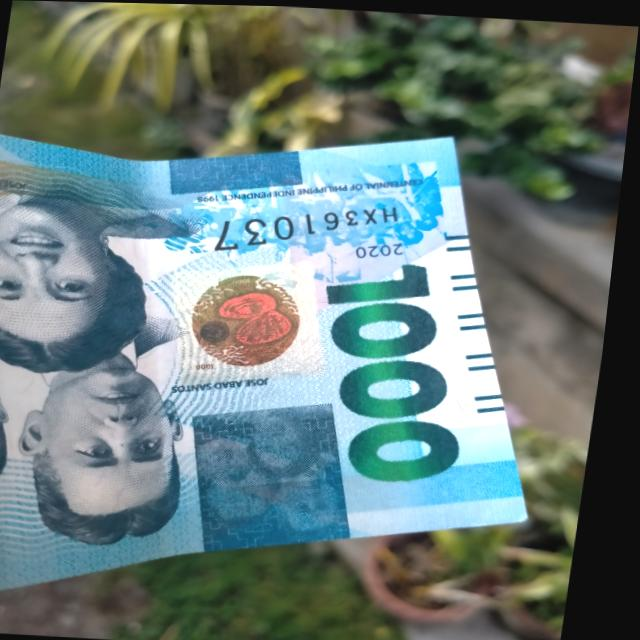concealed_value: (180, 392, 381, 557)
optically_variable_device: (164, 250, 347, 379)
serial_number: (214, 184, 414, 259)
